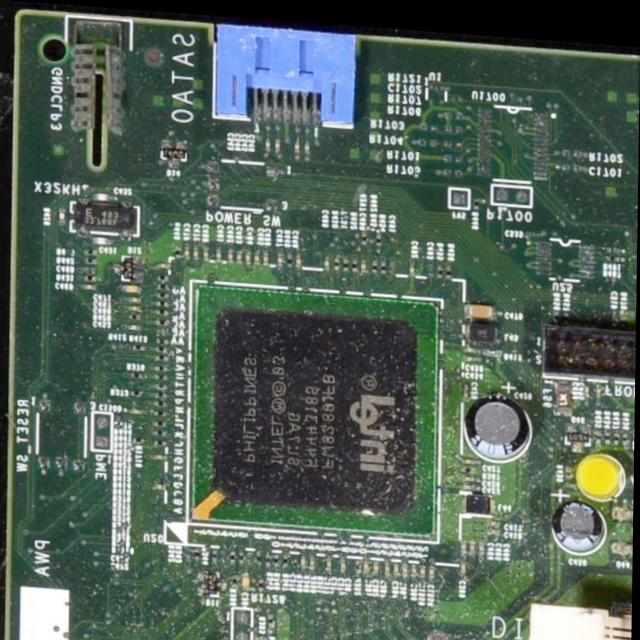IC: (215, 306, 421, 508)
capacitor: (464, 386, 539, 452), (555, 485, 614, 539), (467, 296, 495, 310), (406, 249, 419, 273), (77, 261, 98, 273), (117, 283, 141, 293), (261, 134, 275, 151), (562, 155, 588, 164), (123, 291, 144, 302), (253, 238, 262, 263), (262, 240, 272, 261), (243, 568, 253, 588), (77, 280, 102, 288), (275, 130, 284, 152), (215, 238, 224, 259), (305, 130, 312, 156), (373, 552, 382, 571), (229, 245, 238, 264), (121, 322, 142, 330), (277, 242, 285, 263), (341, 548, 349, 567), (295, 244, 303, 263), (311, 548, 319, 566), (429, 558, 439, 572), (193, 240, 201, 257), (461, 553, 468, 568), (245, 244, 252, 259), (296, 133, 301, 153), (462, 475, 477, 481), (462, 468, 476, 474), (204, 243, 210, 257), (413, 555, 418, 569), (183, 242, 188, 254)
resistor: (566, 421, 593, 436), (368, 245, 382, 271), (77, 253, 99, 266), (561, 140, 584, 152), (435, 253, 447, 275), (605, 233, 623, 245), (150, 416, 171, 426), (264, 548, 275, 567), (78, 248, 98, 258), (269, 609, 278, 631), (279, 548, 290, 566), (378, 251, 389, 269), (155, 269, 171, 281), (153, 302, 170, 313), (153, 288, 169, 299), (287, 243, 295, 265), (412, 129, 428, 140), (351, 249, 360, 268), (151, 362, 172, 370), (130, 342, 148, 351), (342, 250, 351, 268), (604, 246, 620, 256), (436, 161, 450, 172), (462, 460, 479, 469), (152, 405, 169, 414), (334, 249, 343, 266), (376, 225, 384, 244), (419, 111, 429, 126), (152, 389, 168, 398), (155, 350, 171, 359), (155, 435, 169, 445), (274, 548, 283, 563), (80, 273, 99, 280), (229, 545, 237, 561), (613, 422, 621, 438), (153, 370, 169, 378), (446, 255, 454, 271), (440, 103, 456, 111), (152, 398, 170, 405), (152, 426, 169, 433), (358, 556, 366, 570), (154, 280, 170, 287), (597, 419, 604, 434), (443, 148, 456, 155), (608, 419, 613, 436), (240, 547, 246, 561), (134, 369, 144, 377), (261, 575, 267, 588), (622, 423, 628, 436), (364, 223, 369, 238), (157, 344, 168, 350), (214, 545, 219, 558), (232, 573, 239, 582), (160, 317, 167, 323), (133, 389, 143, 393), (633, 423, 635, 439)
